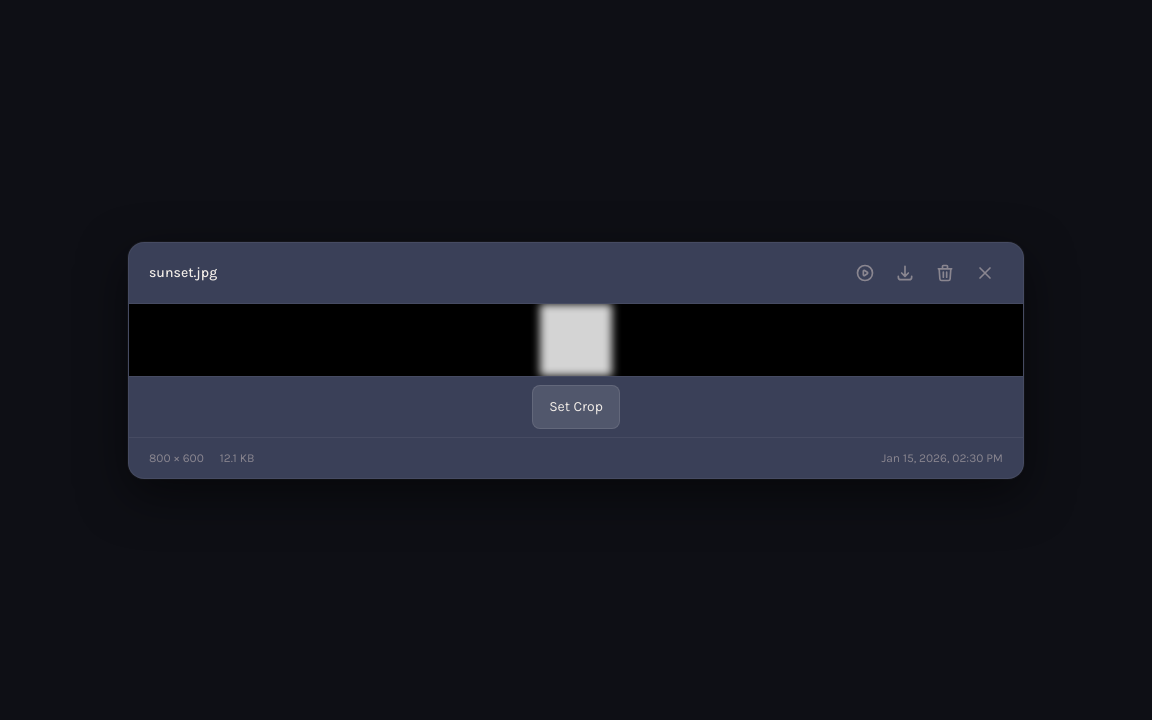
MediaDetailModal › delete cancel keeps modal open
Click the button named "Delete".
click(945, 272)  # box [927,254,963,290]
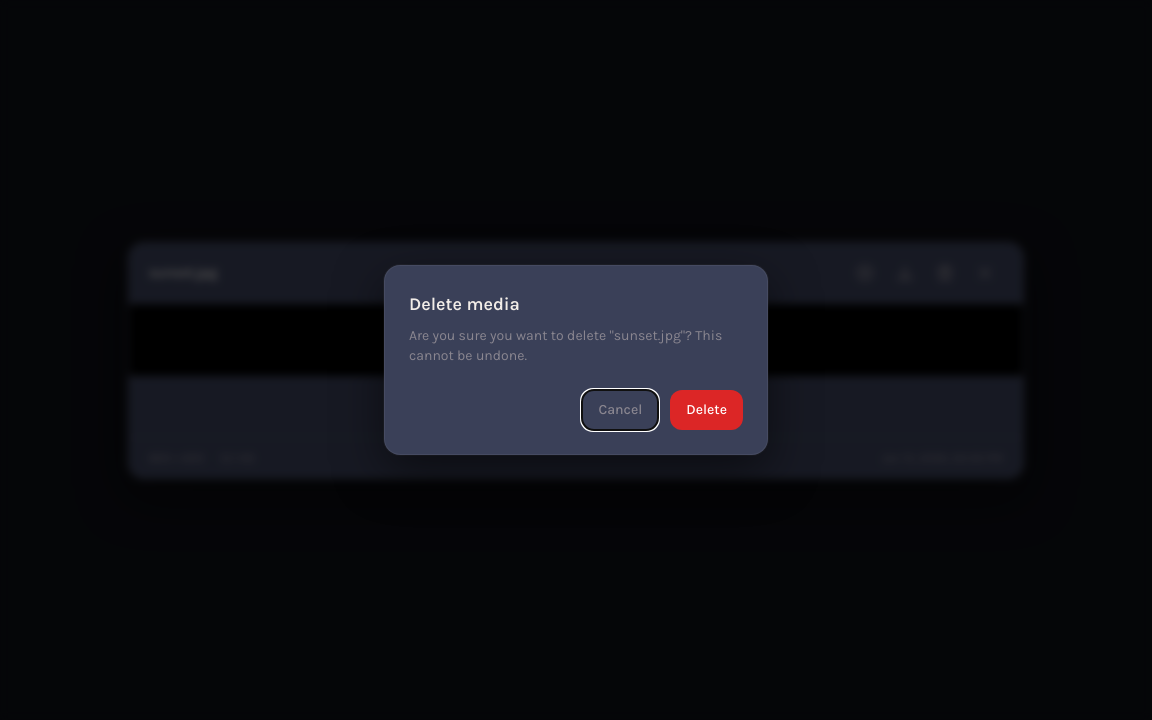
Click the button "Cancel".
click(620, 410)  # box [582,390,658,430]
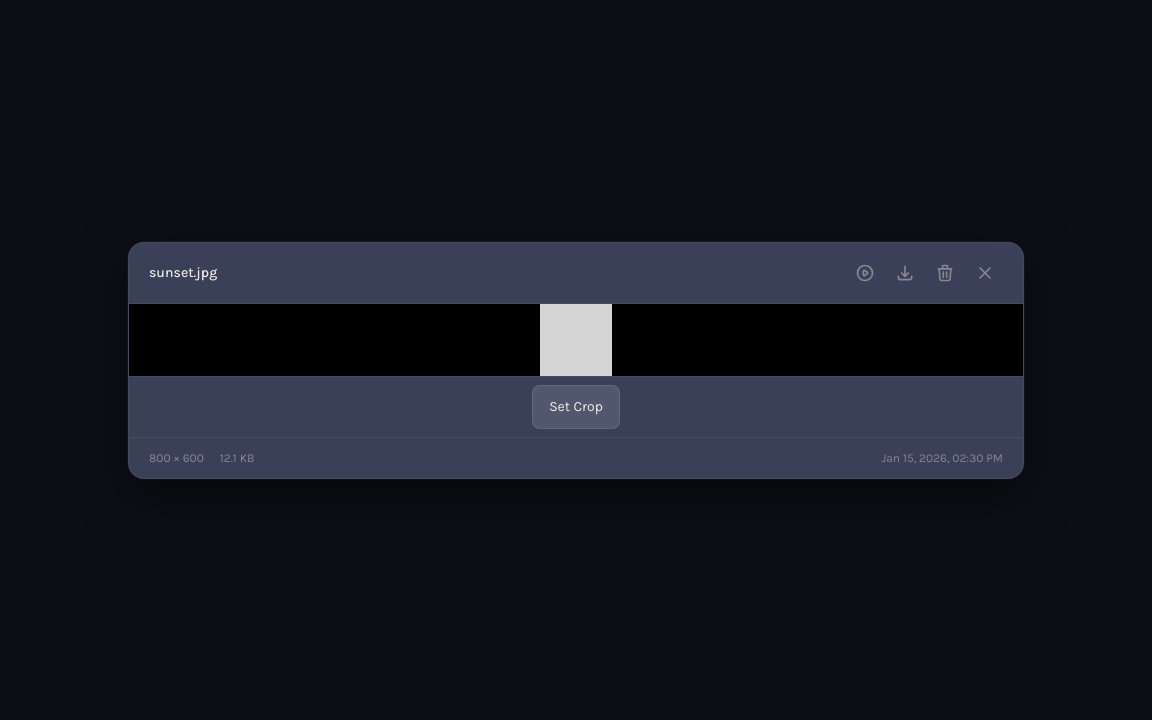
Expected: the text "Are you sure you want to delete" is gone
